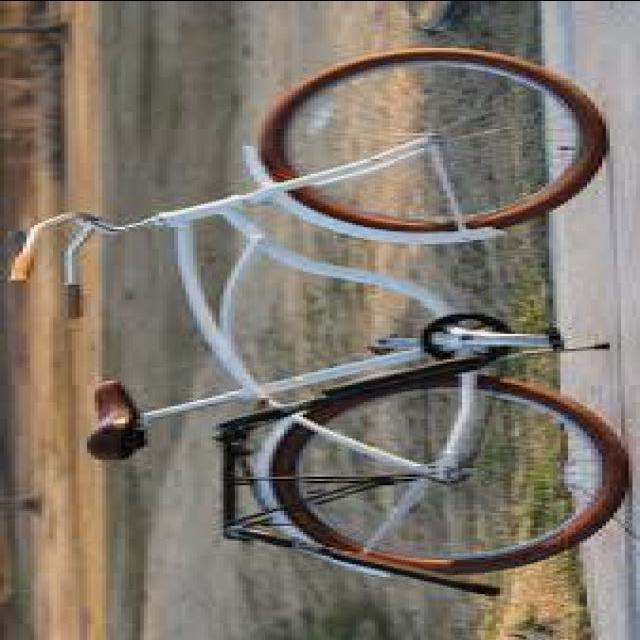bicycle: (27, 45, 625, 585)
